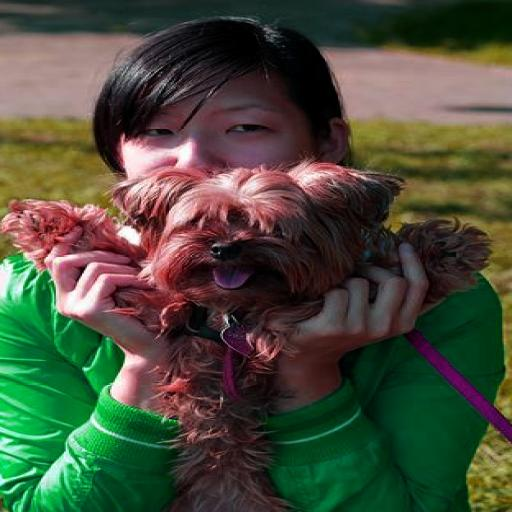dog_face: (115, 166, 374, 311)
